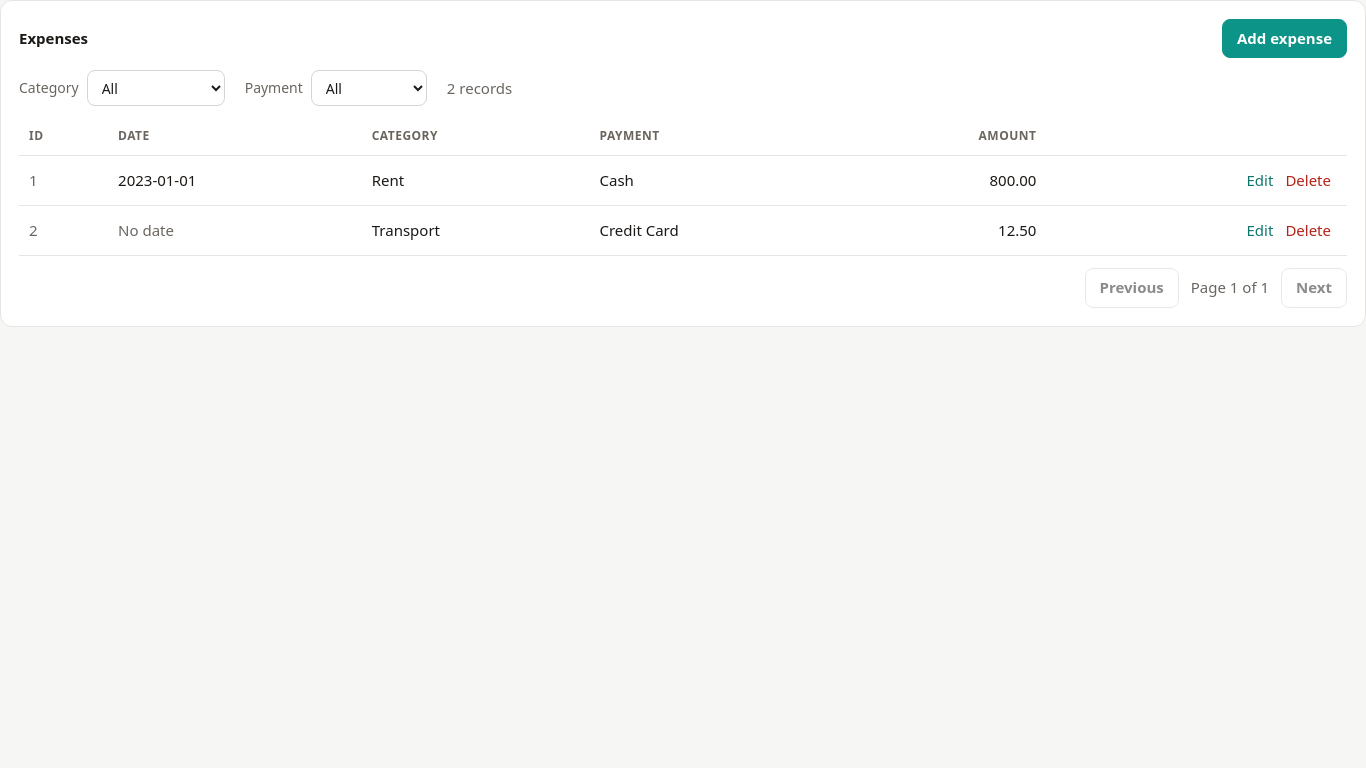
Test: ExpensesPanel › creates an expense and notifies the dashboard
Step 1. Click the button "Add expense" → (1284, 39), box x1=1222 y1=19 x2=1347 y2=58
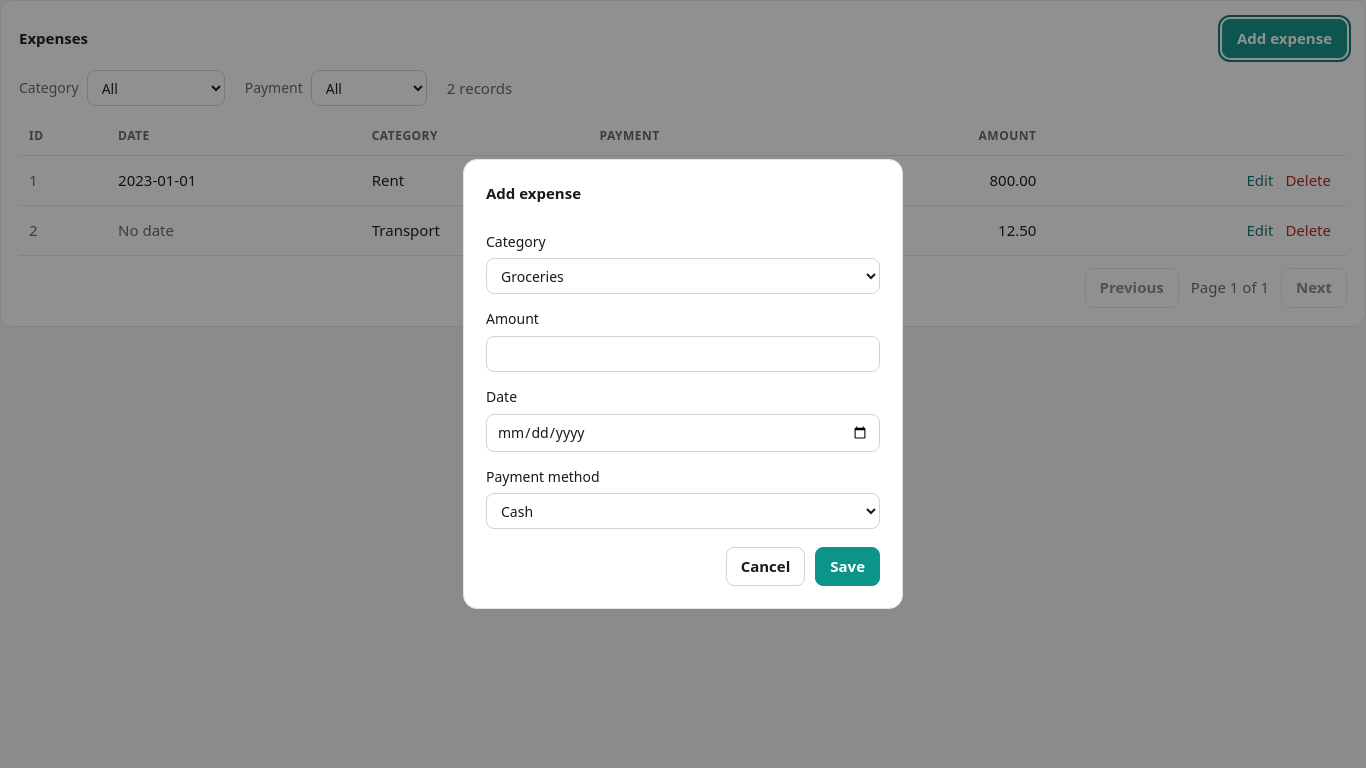
Step 2. Type "45" into the number field labelled "Amount" → (683, 354), box x1=486 y1=336 x2=880 y2=372
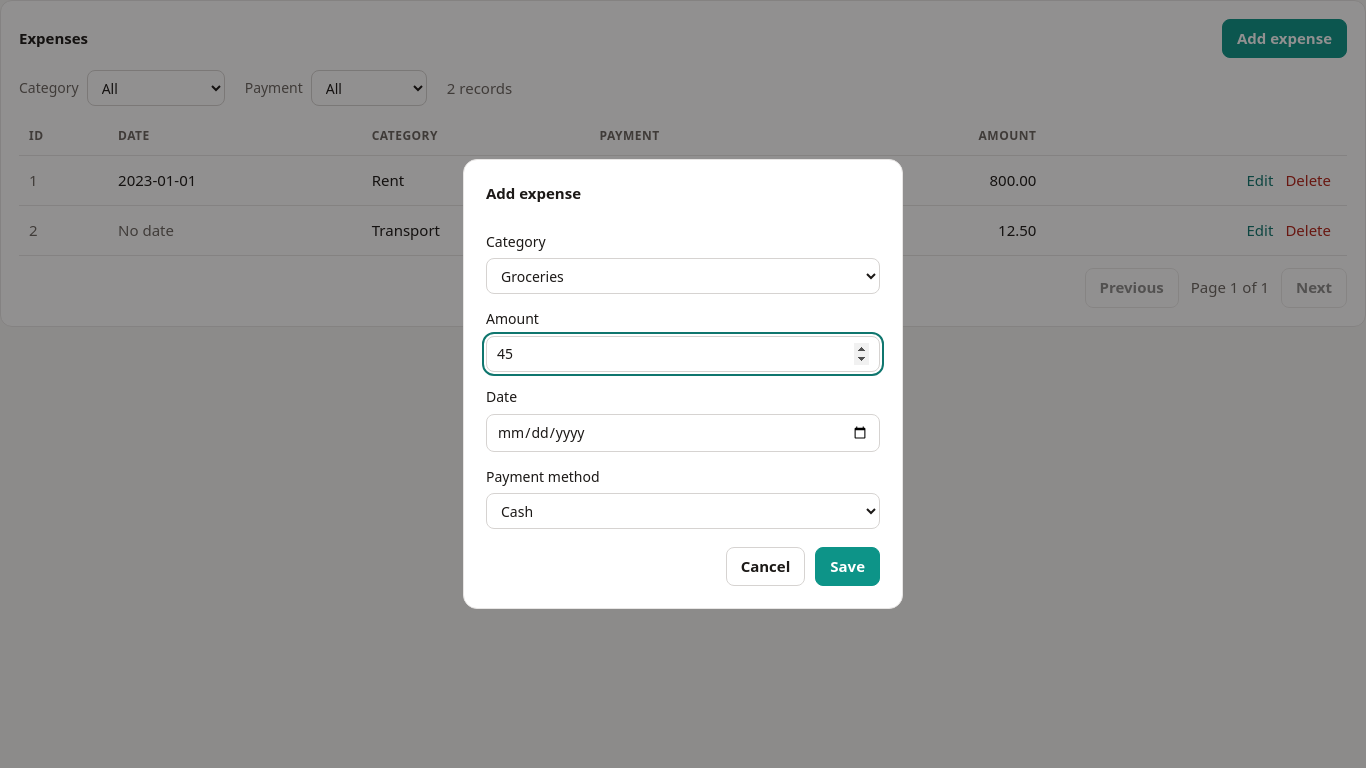
Step 3. Click the button "Save" → (848, 567), box x1=815 y1=547 x2=880 y2=586
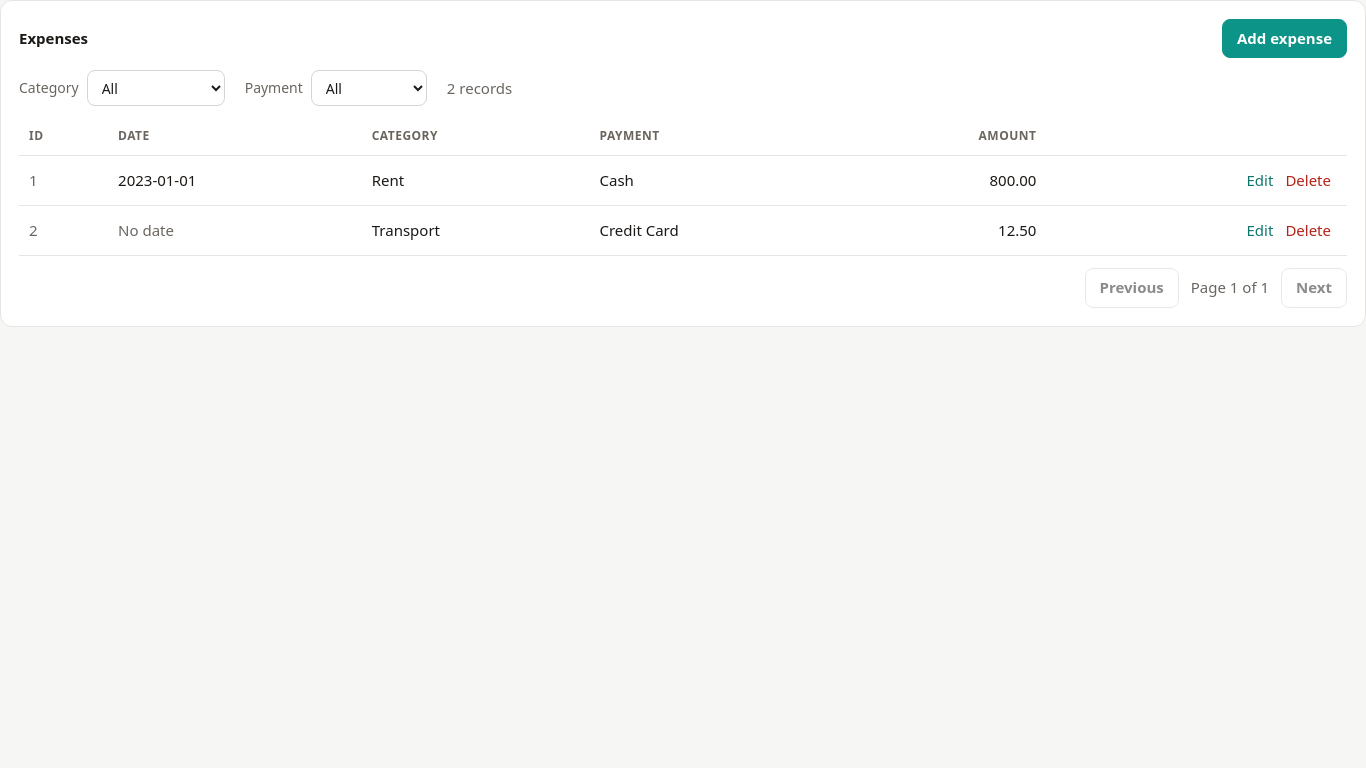
Expected: the dialog is gone
